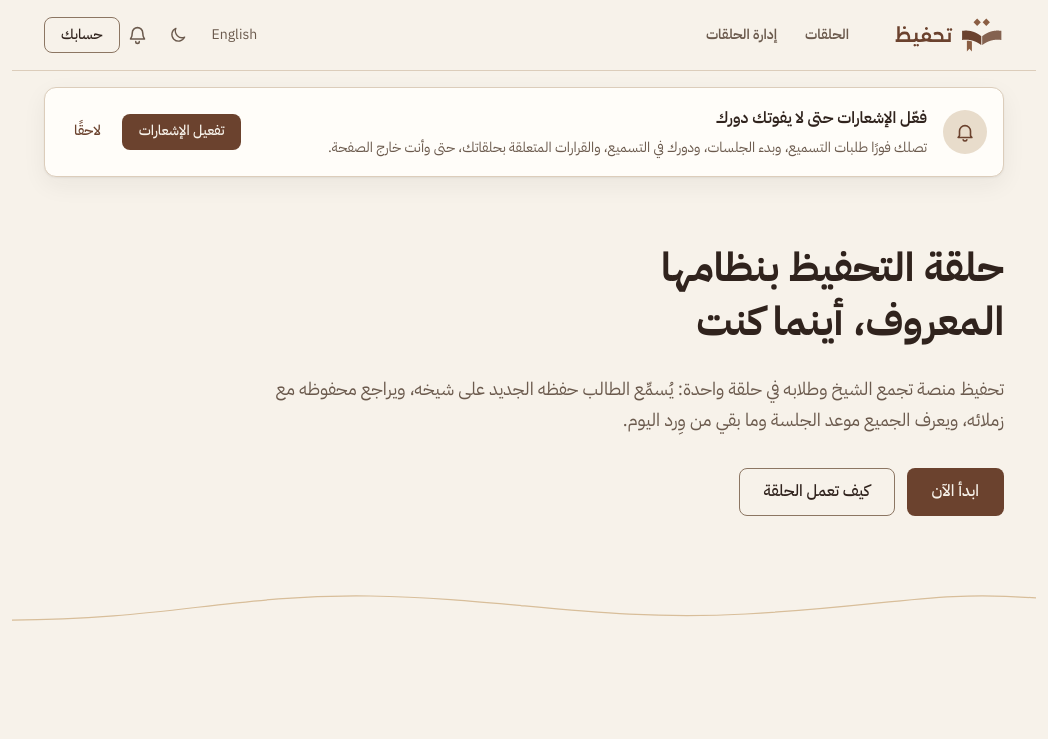
Test case: push notifications (web) › asks politely, then registers this browser with the API
Click the button "تفعيل الإشعارات" at (182, 132), box x1=122 y1=114 x2=242 y2=150
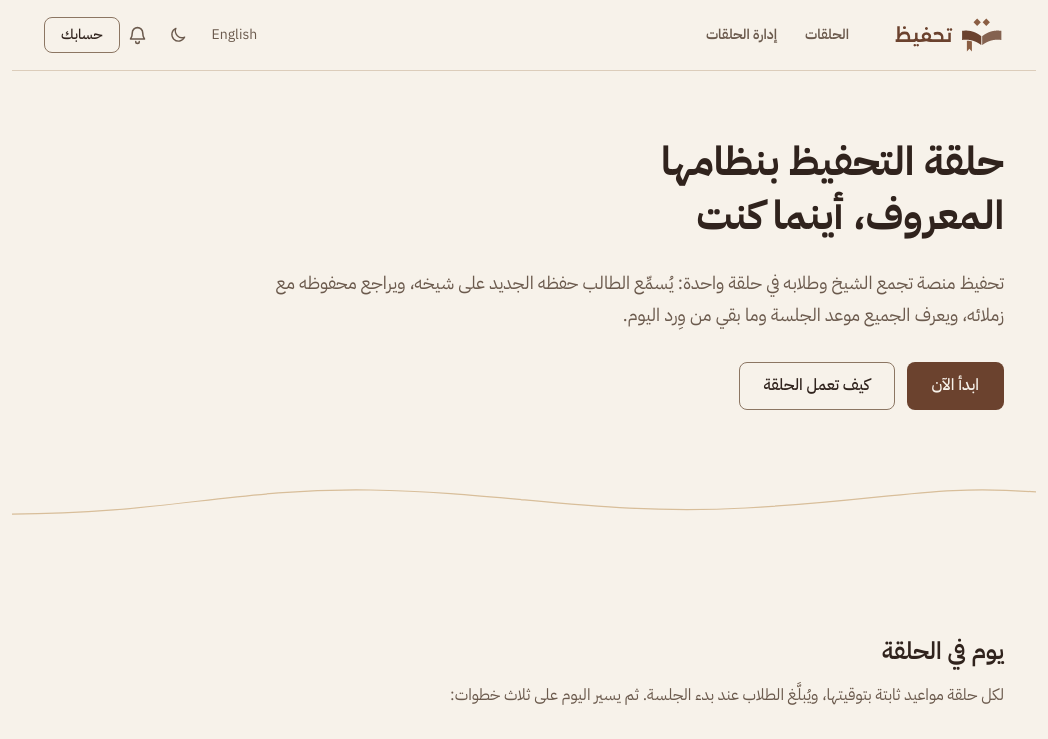
expect the text "فعّل الإشعارات حتى لا يفوتك دورك" is gone: met
